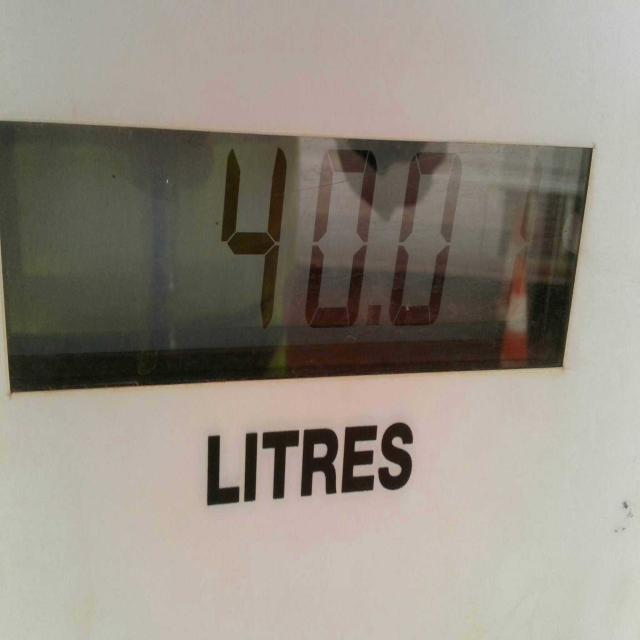.: (367, 289, 383, 327)
0: (391, 153, 469, 335), (302, 142, 374, 323)
1: (506, 164, 541, 346)
4: (224, 148, 288, 333)
